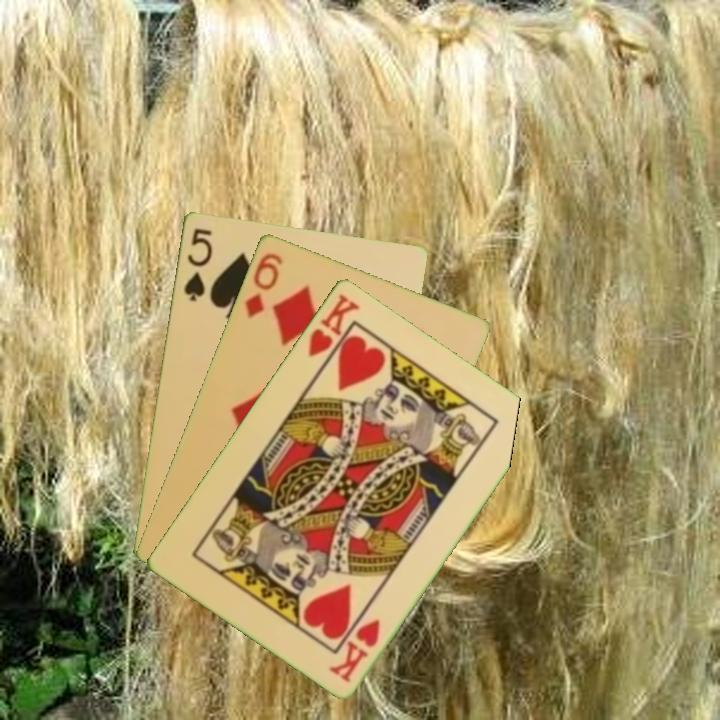5s: (180, 224, 215, 304)
6d: (241, 249, 285, 321)
Kh: (304, 289, 363, 372), (325, 615, 383, 685)
